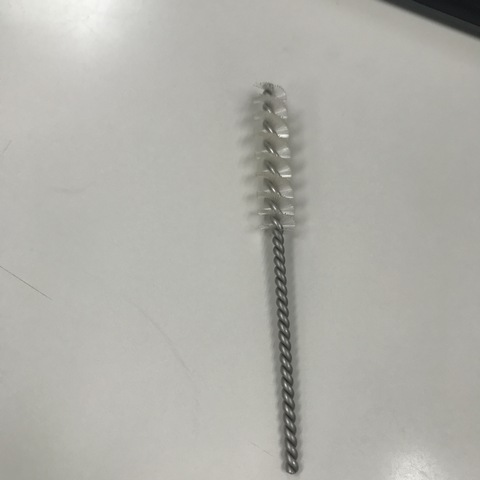Twist Brush-B: (246, 80, 308, 473)
